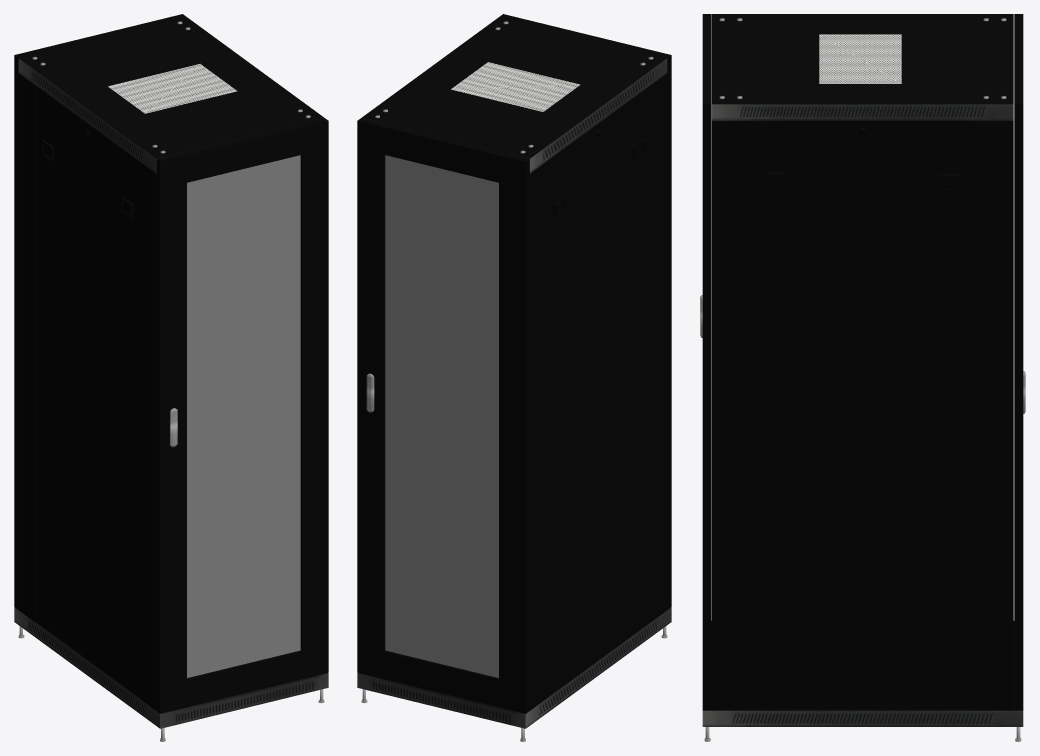
File: RKAB40.fbx
The picture shows the model from 3 angles, left to right: view 1: azimuth 30°, elevation 25°; view 2: azimuth 150°, elevation 25°; view 3: azimuth 270°, elevation 25°; orthographic projection. The views are drawn at different scales.
Visible parts, largest first — view 1: frontdoor, RKAB40, Box148, backdoor; view 2: backdoor, RKAB40, Box148, frontdoor; view 3: RKAB40, Box148, frontdoor, backdoor.
Part boxes in pixels (x1,y1,x2,y2): frontdoor: (156, 118, 328, 713); RKAB40: (36, 86, 139, 697); Box148: (14, 17, 328, 741); backdoor: (14, 14, 186, 609); backdoor: (357, 118, 529, 713); RKAB40: (547, 85, 650, 696); Box148: (357, 17, 671, 741); frontdoor: (499, 14, 671, 609); RKAB40: (747, 120, 976, 709); Box148: (702, 14, 1023, 741); frontdoor: (700, 14, 711, 710); backdoor: (1014, 14, 1025, 710).
Bounding box in the file's own units: 610 × 1983 × 913.
Materials: 6 (4 with a texture image).
